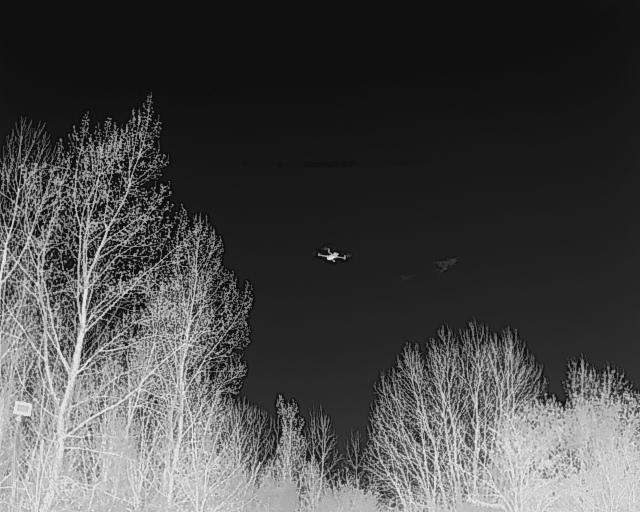drone: (309, 244, 351, 271)
